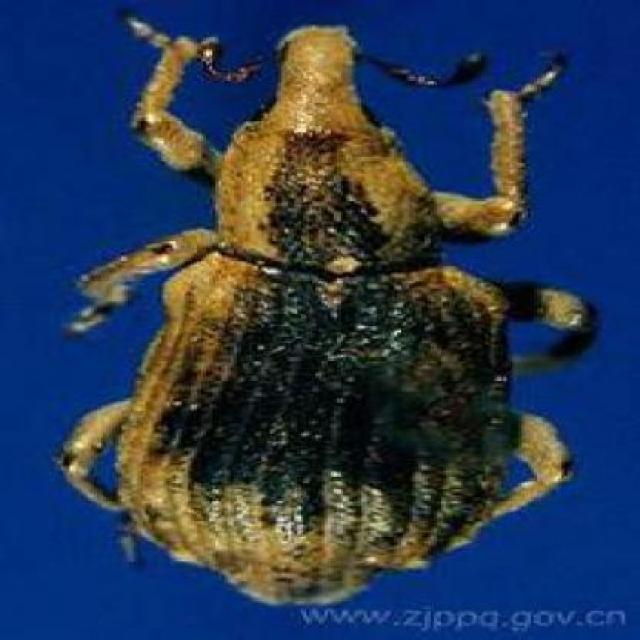rice-bug: (49, 18, 588, 602)
